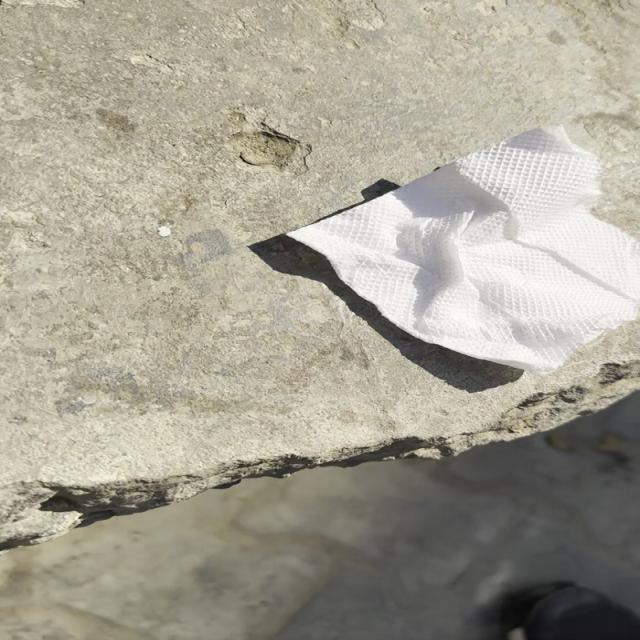tissue: (279, 116, 640, 383)
